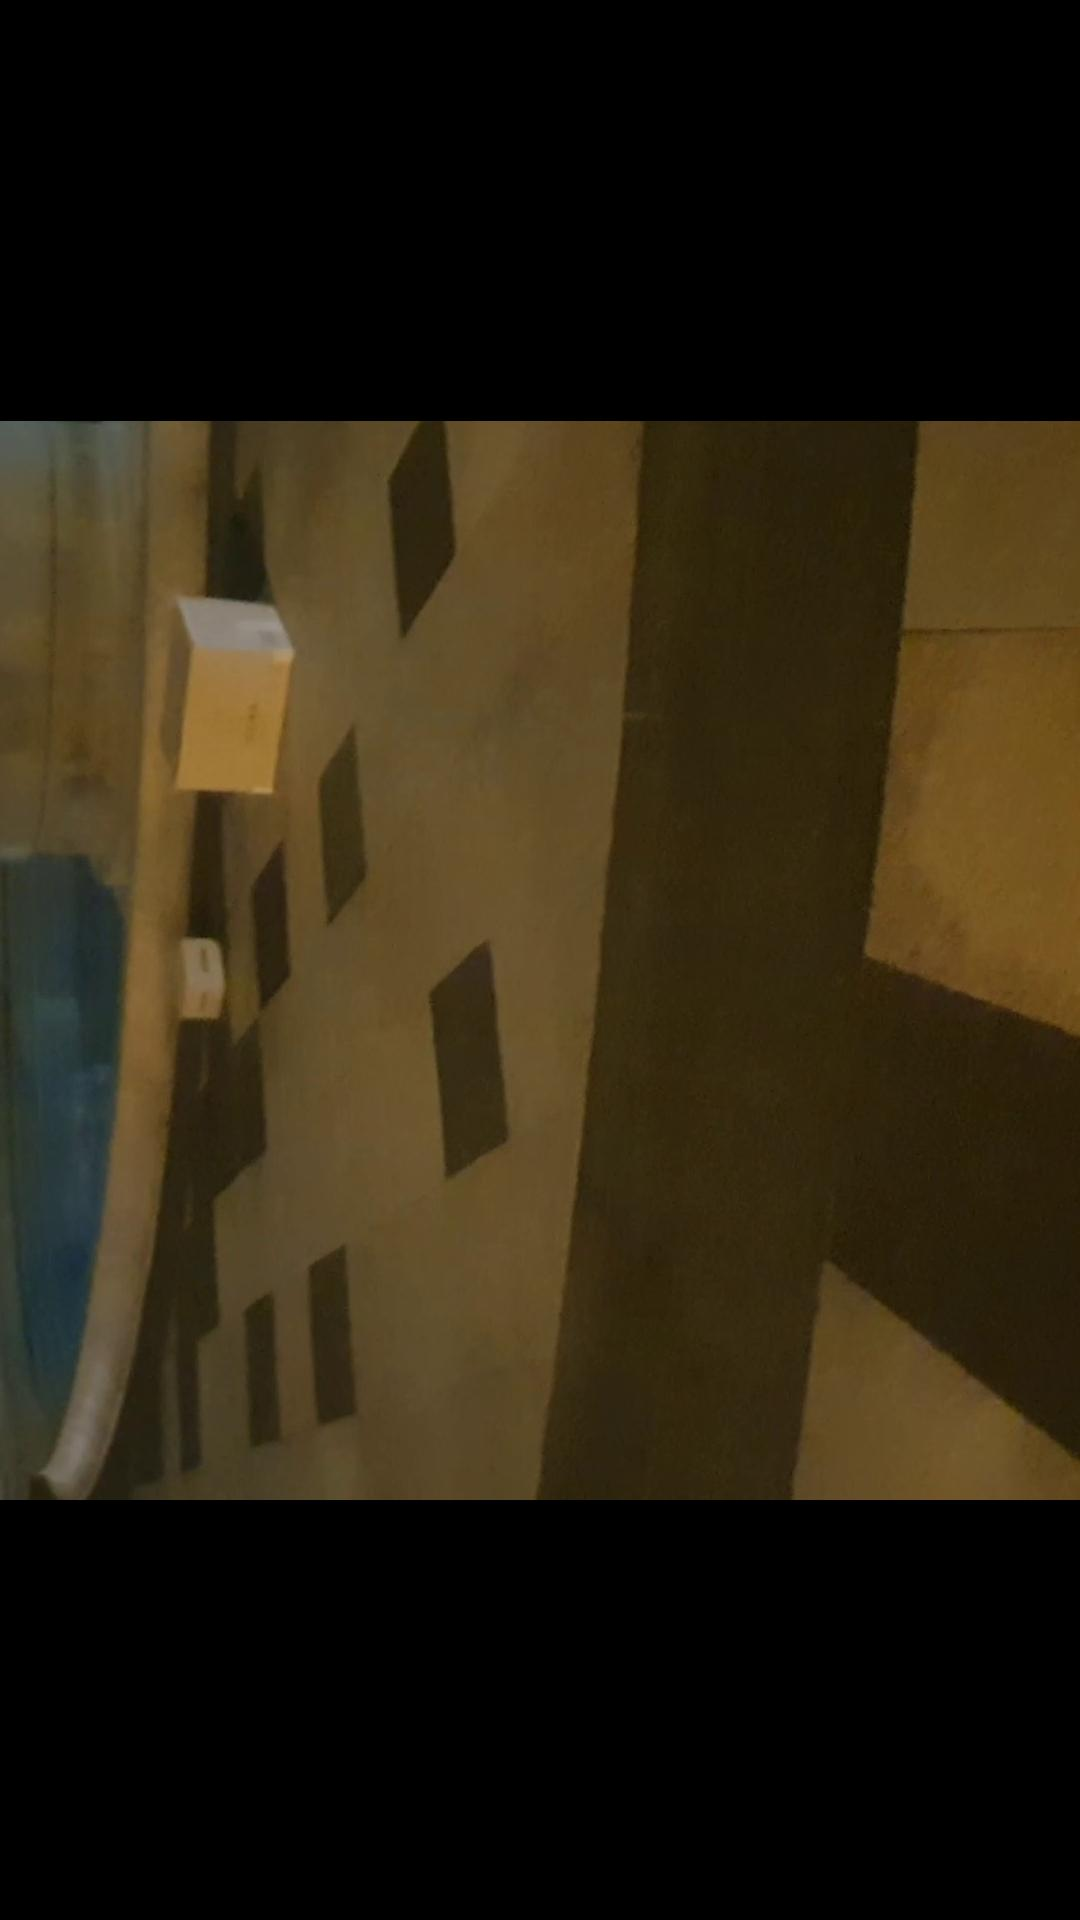Box: (148, 578, 295, 794), (145, 934, 232, 1036)
